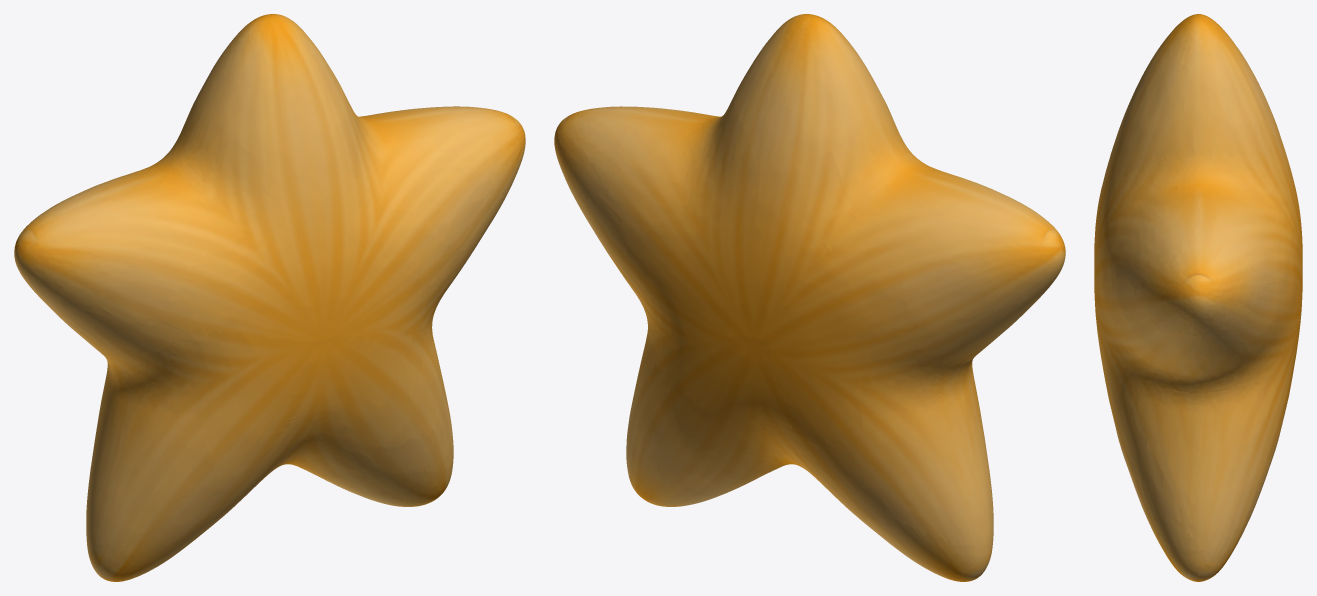
The model's file is star-v1.glb.
3 views of the same model, side by side, from view 1: azimuth 30°, elevation 25°; view 2: azimuth 150°, elevation 25°; view 3: azimuth 270°, elevation 25° (orthographic). The views are drawn at different scales.
Size of the model in its own units: 1.9 by 1.9 by 0.7212.
1 material, 1 textured.
